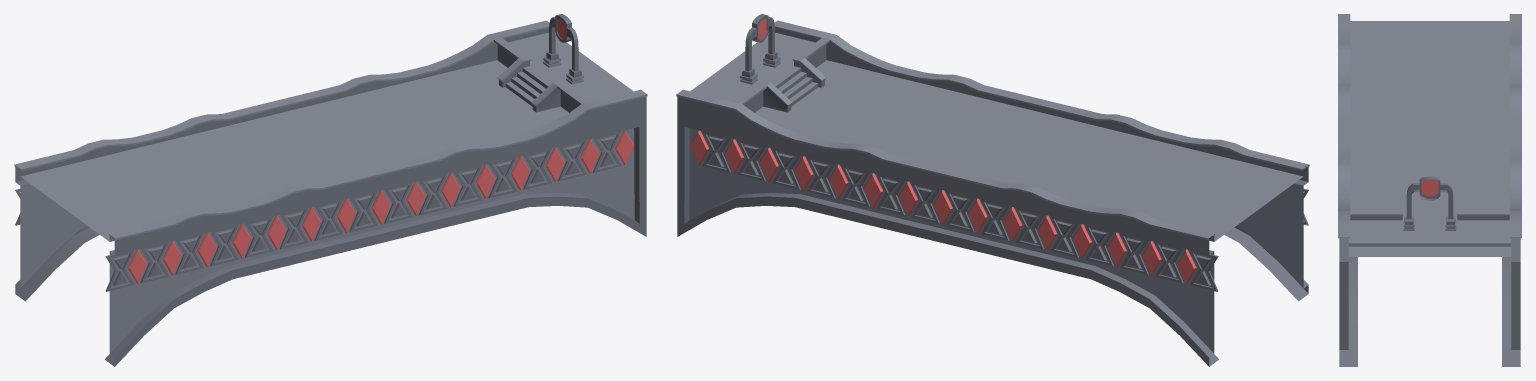
Rendered from bridge.fbx.
3 renders of one model, left to right at view 1: azimuth 30°, elevation 25°; view 2: azimuth 150°, elevation 25°; view 3: azimuth 270°, elevation 25°, orthographic. The views are drawn at different scales.
Visible parts, largest first — view 1: bridge; view 2: bridge; view 3: bridge.
Boxes of the visible parts, <box> form: bridge: <box>14,14,647,366</box>; bridge: <box>676,14,1309,366</box>; bridge: <box>1338,14,1521,366</box>.
Bounding box in the file's own units: 6049 × 2069 × 1975.
